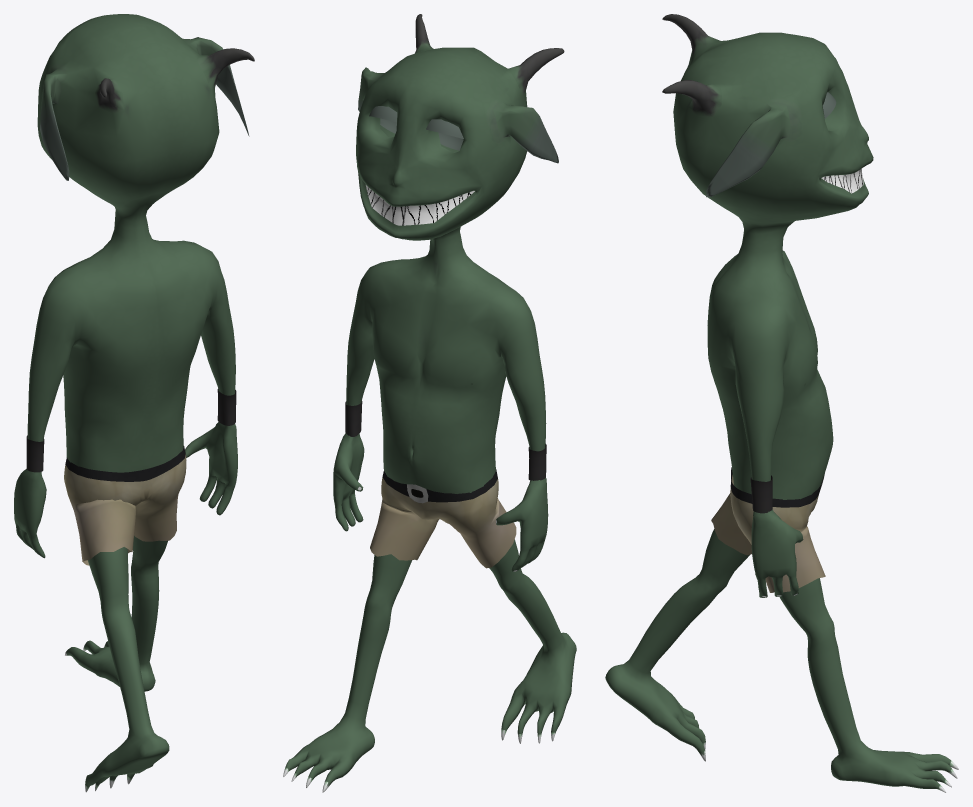
The model's file is lwjglcharactergoblin10_000004.obj.
3 views of the same model, side by side, from view 1: azimuth 30°, elevation 25°; view 2: azimuth 150°, elevation 25°; view 3: azimuth 270°, elevation 25° (orthographic). The views are drawn at different scales.
Visible parts, largest first — view 1: Cube.002; view 2: Cube.002; view 3: Cube.002.
Boxes of the visible parts, x1,y1,x2,y2 form: Cube.002: (14,14,254,792); Cube.002: (283,14,576,792); Cube.002: (605,14,958,792).
Bounding box in the file's own units: 1.18 × 3.88 × 1.69.
